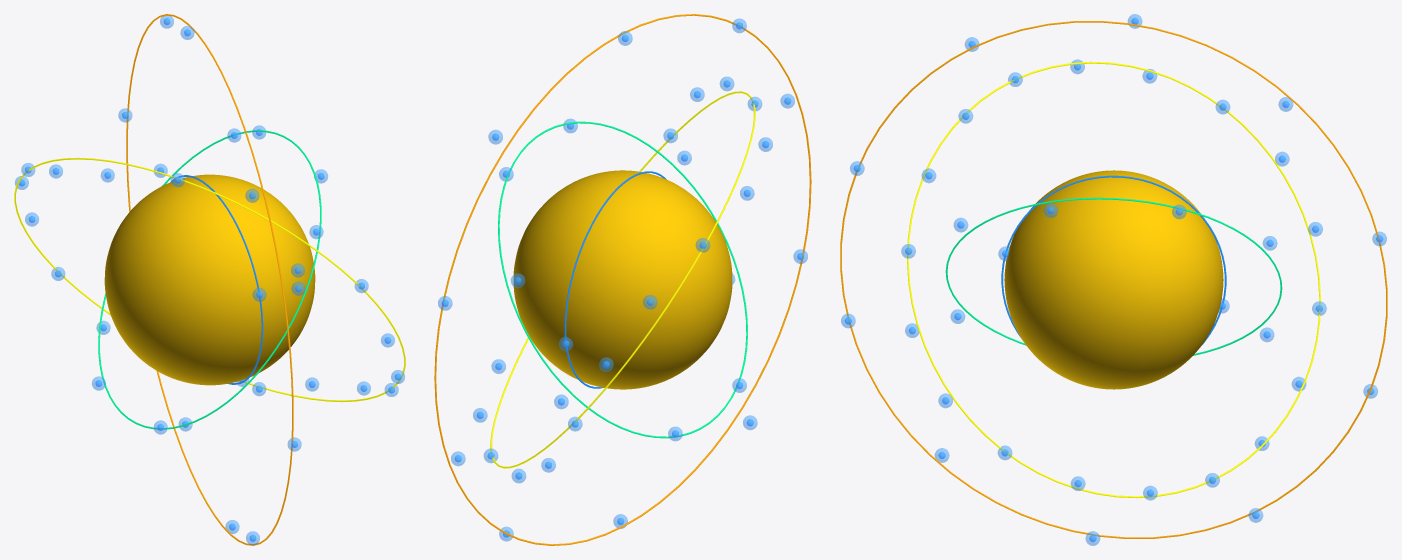
3 renders of one model, left to right at view 1: azimuth 30°, elevation 25°; view 2: azimuth 150°, elevation 25°; view 3: azimuth 270°, elevation 25°, orthographic. The views are drawn at different scales.
Parts seen in each view (by area): view 1: Sr, object 61, object 24, object 7, object 2; view 2: Sr, object 61, object 7, object 24, object 2; view 3: Sr, object 61, object 24, object 7, object 2.
Boxes of the visible parts, box(x1,y1,x2,y2) form: Sr: box(104, 174, 315, 385); object 61: box(126, 14, 293, 545); object 24: box(14, 157, 405, 402); object 7: box(98, 130, 321, 429); object 2: box(170, 175, 263, 384); Sr: box(513, 170, 732, 389); object 61: box(434, 14, 811, 545); object 7: box(498, 121, 747, 438); object 24: box(490, 91, 755, 468); object 2: box(564, 171, 666, 388); Sr: box(1004, 170, 1223, 389); object 61: box(840, 21, 1387, 538); object 24: box(907, 61, 1320, 498); object 7: box(945, 197, 1282, 355); object 2: box(1001, 175, 1226, 345).
Bounding box in the file's own units: 3.68 × 6.14 × 5.88.
